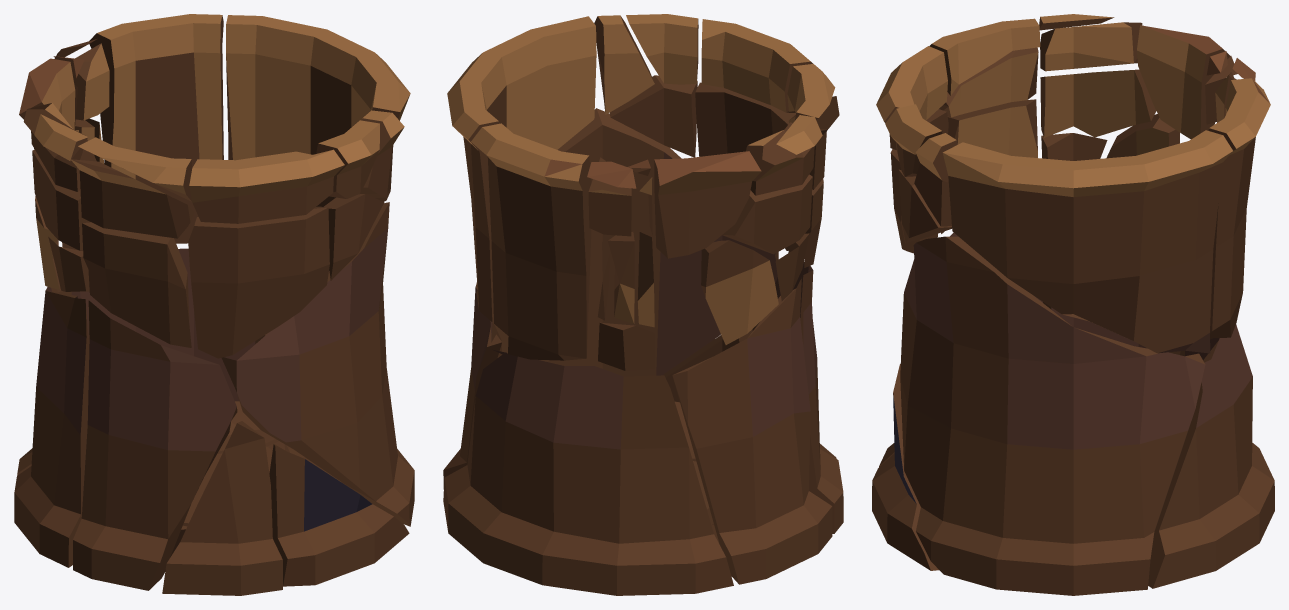
Rendered from fractured_simple_cup.glb.
3 views of the same model, side by side, from view 1: azimuth 30°, elevation 25°; view 2: azimuth 150°, elevation 25°; view 3: azimuth 270°, elevation 25° (orthographic).
Visible parts, largest first — view 1: SimpleCup.002_cell.001; view 2: SimpleCup.002_cell.001; view 3: SimpleCup.002_cell.001.
Boxes of the visible parts, box(x1,y1,x2,y2) form: SimpleCup.002_cell.001: box(14, 14, 414, 595); SimpleCup.002_cell.001: box(443, 14, 843, 595); SimpleCup.002_cell.001: box(872, 14, 1274, 595).
Bounding box in the file's own units: 0.2181 × 0.25 × 0.2181.
